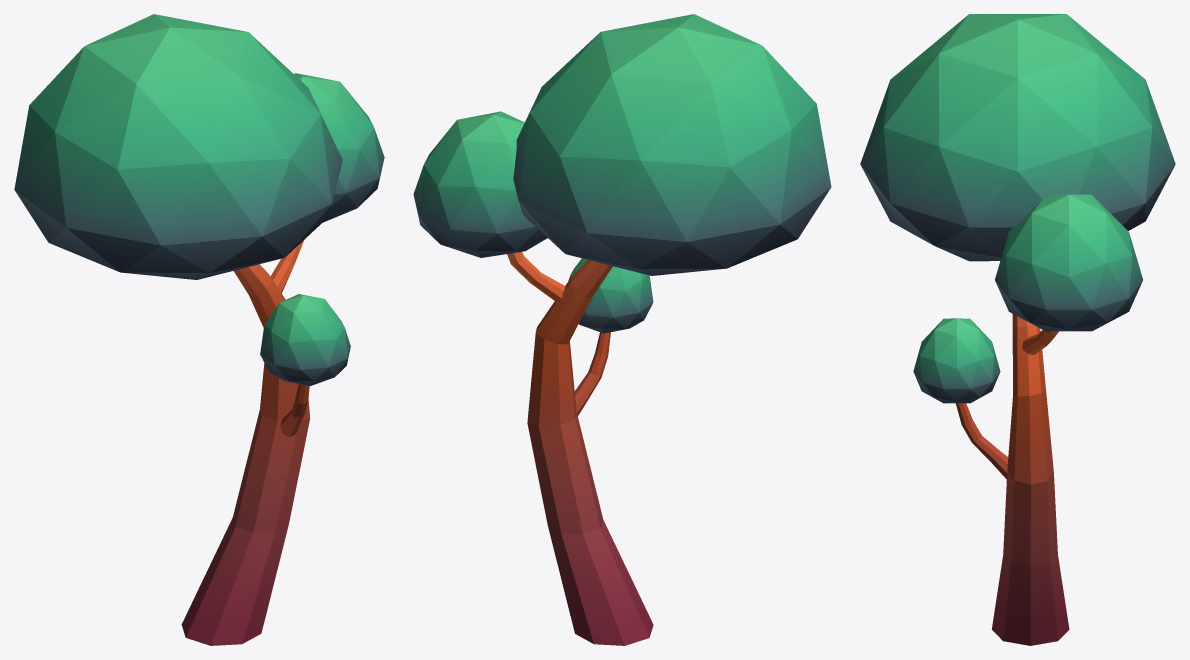
File: Tree_Maple_1.fbx
The picture shows the model from 3 angles, left to right: view 1: azimuth 30°, elevation 25°; view 2: azimuth 150°, elevation 25°; view 3: azimuth 270°, elevation 25°; orthographic projection. The views are drawn at different scales.
Visible parts, largest first — view 1: Maple Tree 2; view 2: Maple Tree 2; view 3: Maple Tree 2.
Part boxes in pixels (x1,y1,x2,y2): Maple Tree 2: (14,14,384,645); Maple Tree 2: (413,14,831,645); Maple Tree 2: (860,14,1175,645).
Size of the model in its own units: 286 by 472 by 232.
